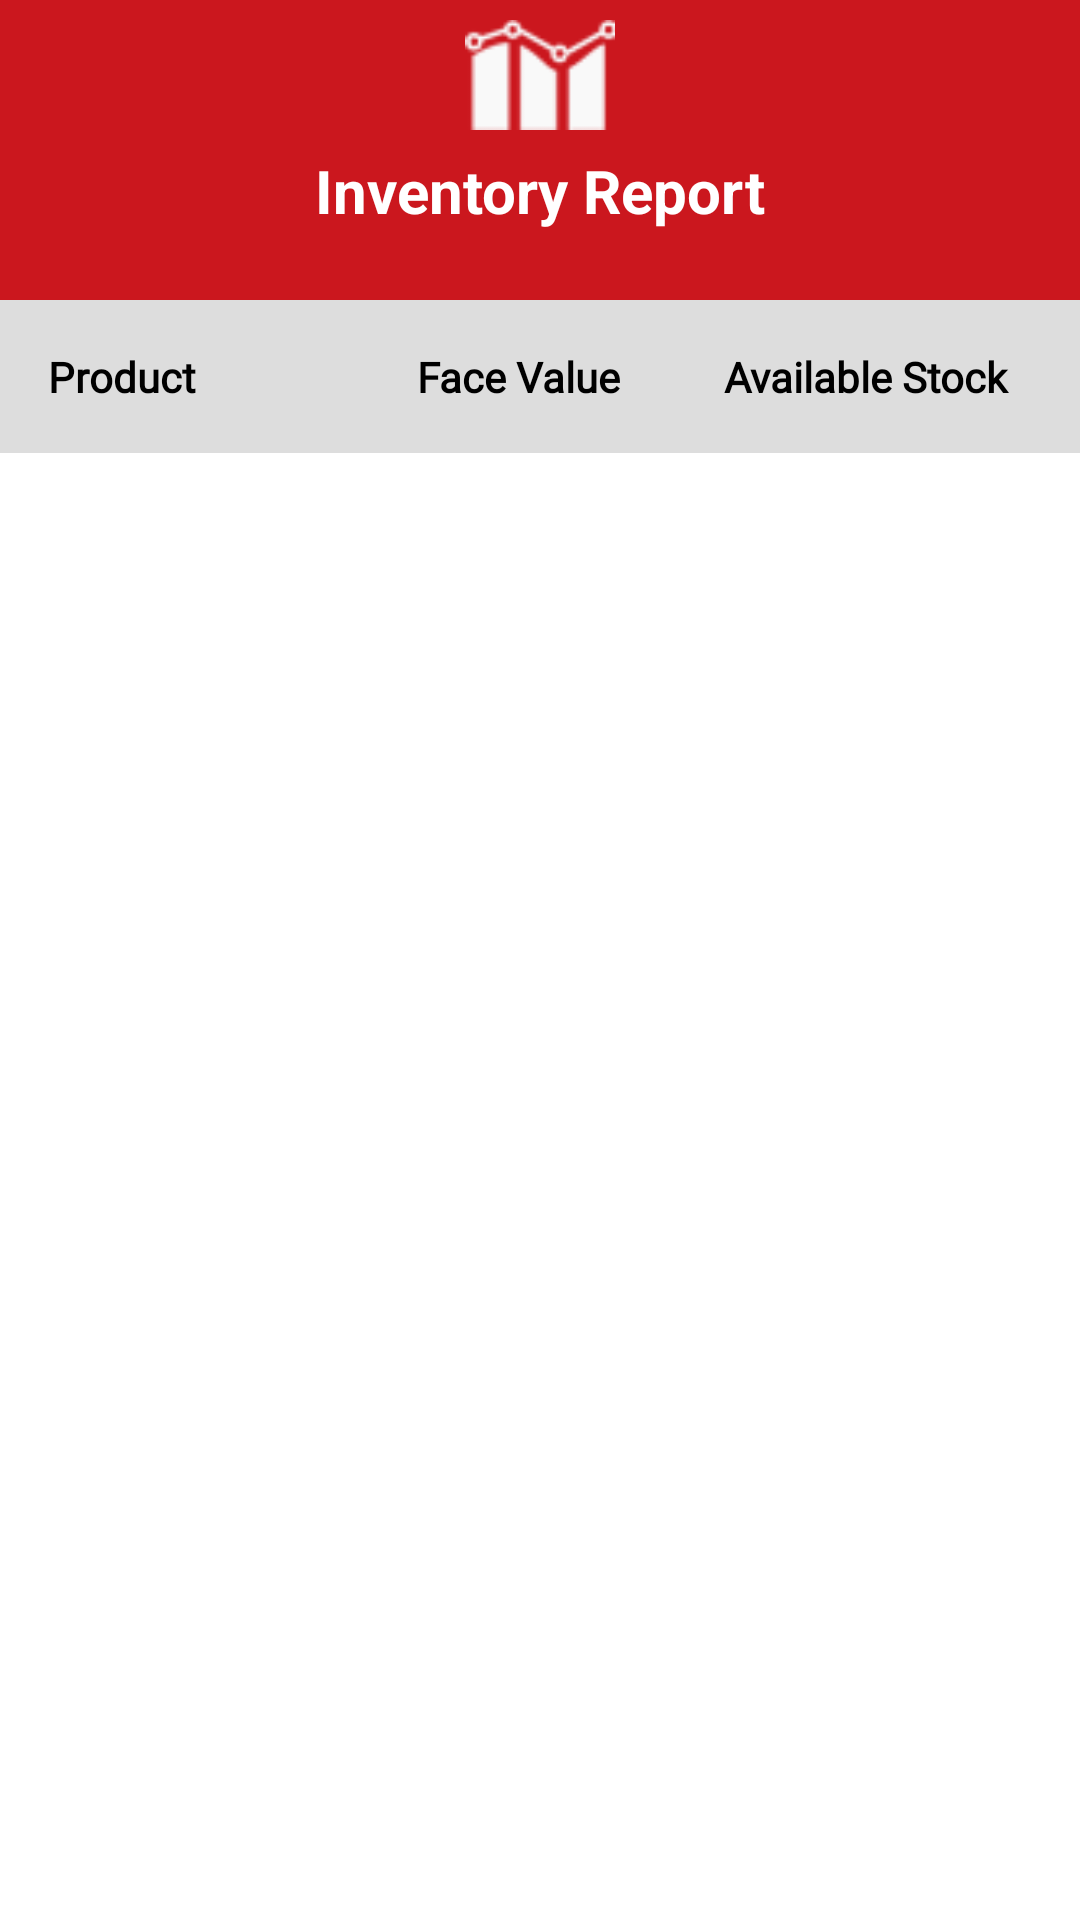

Point at icon controls on the screen. Image size 1080px×1920px, points as [x,y].
reciept report: [540,75]
